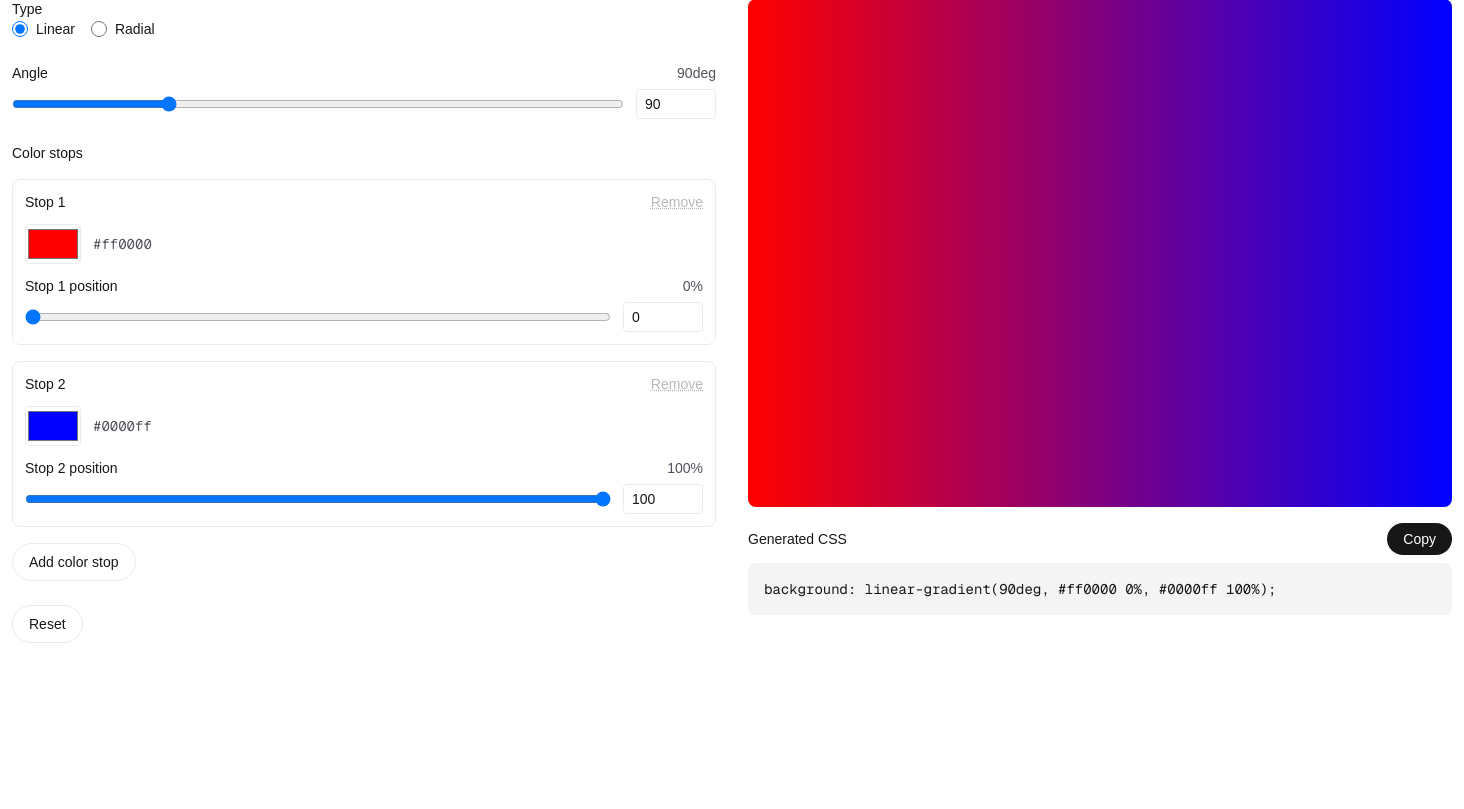
it: GradientGenerator › resets to defaults after changes
Click the button "Add color stop" at (74,562), box left=12, top=543, right=136, bottom=581
(page scrolled)
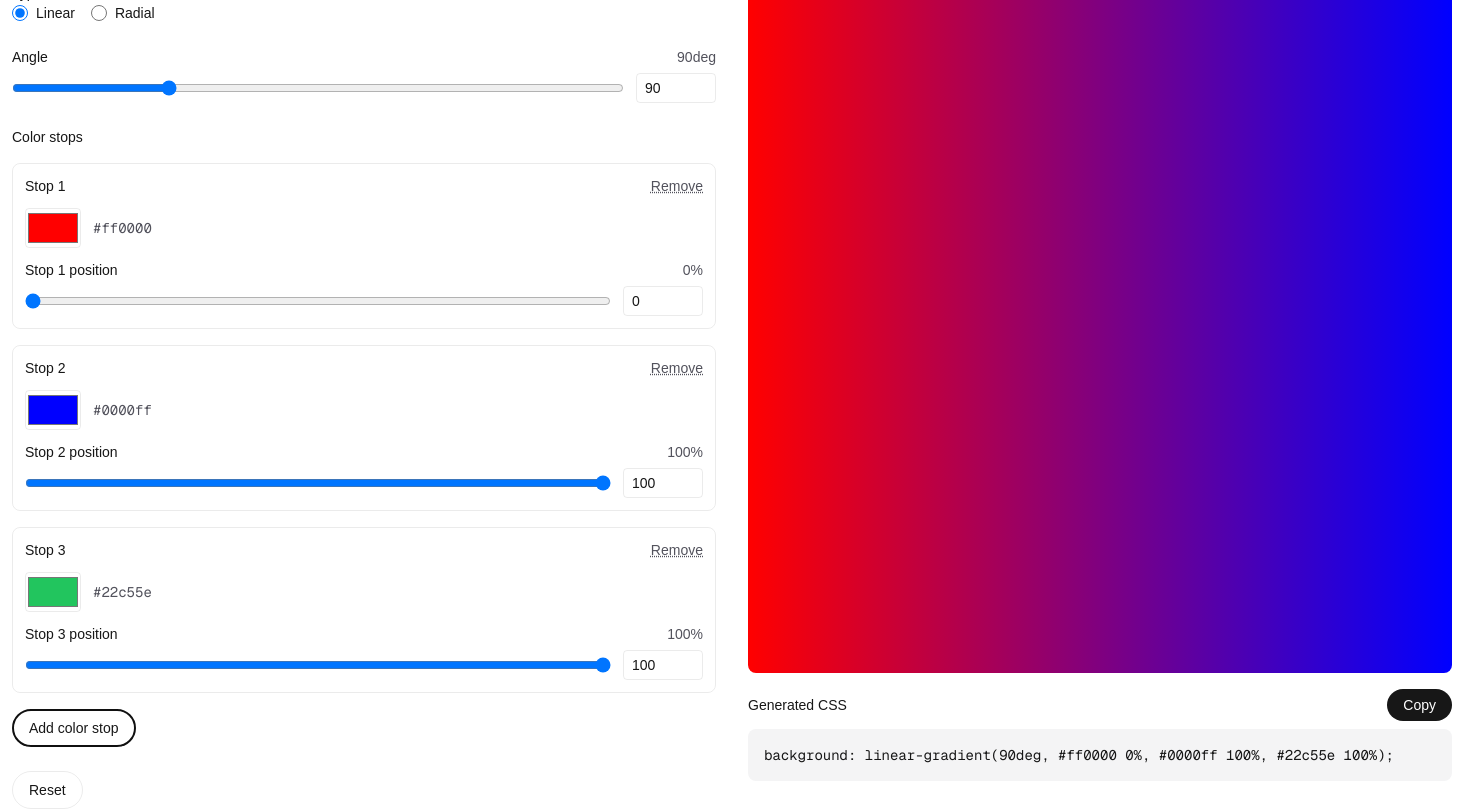
Click the button "Reset" at (47,790), box left=12, top=771, right=83, bottom=808
(page scrolled)
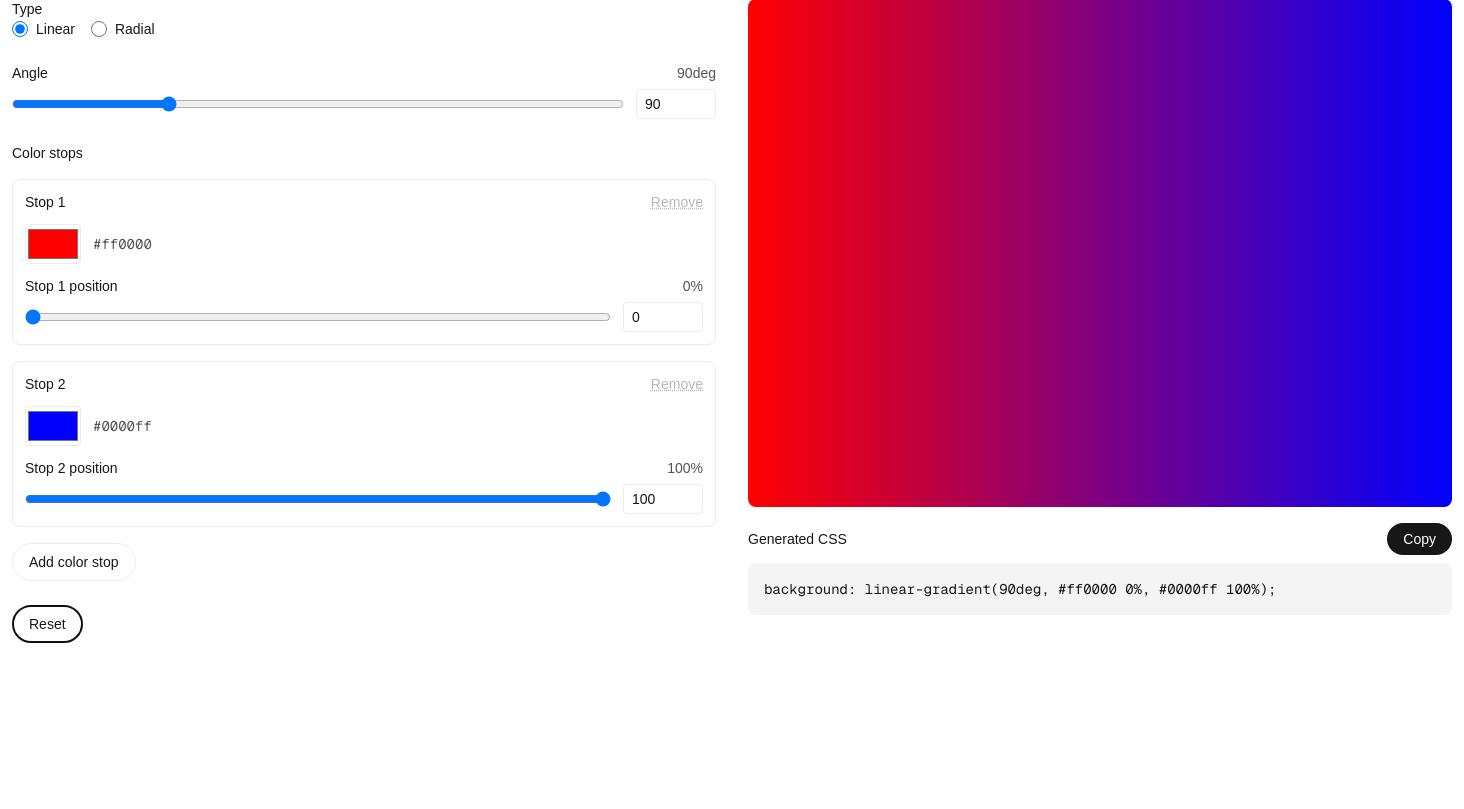
Check: the text "background: linear-gradient(90deg, #ff0000 0%, #0000ff 100%);" is shown, box left=748, top=563, right=1452, bottom=615
Check: the label labelled "Stop 3 position" is gone
